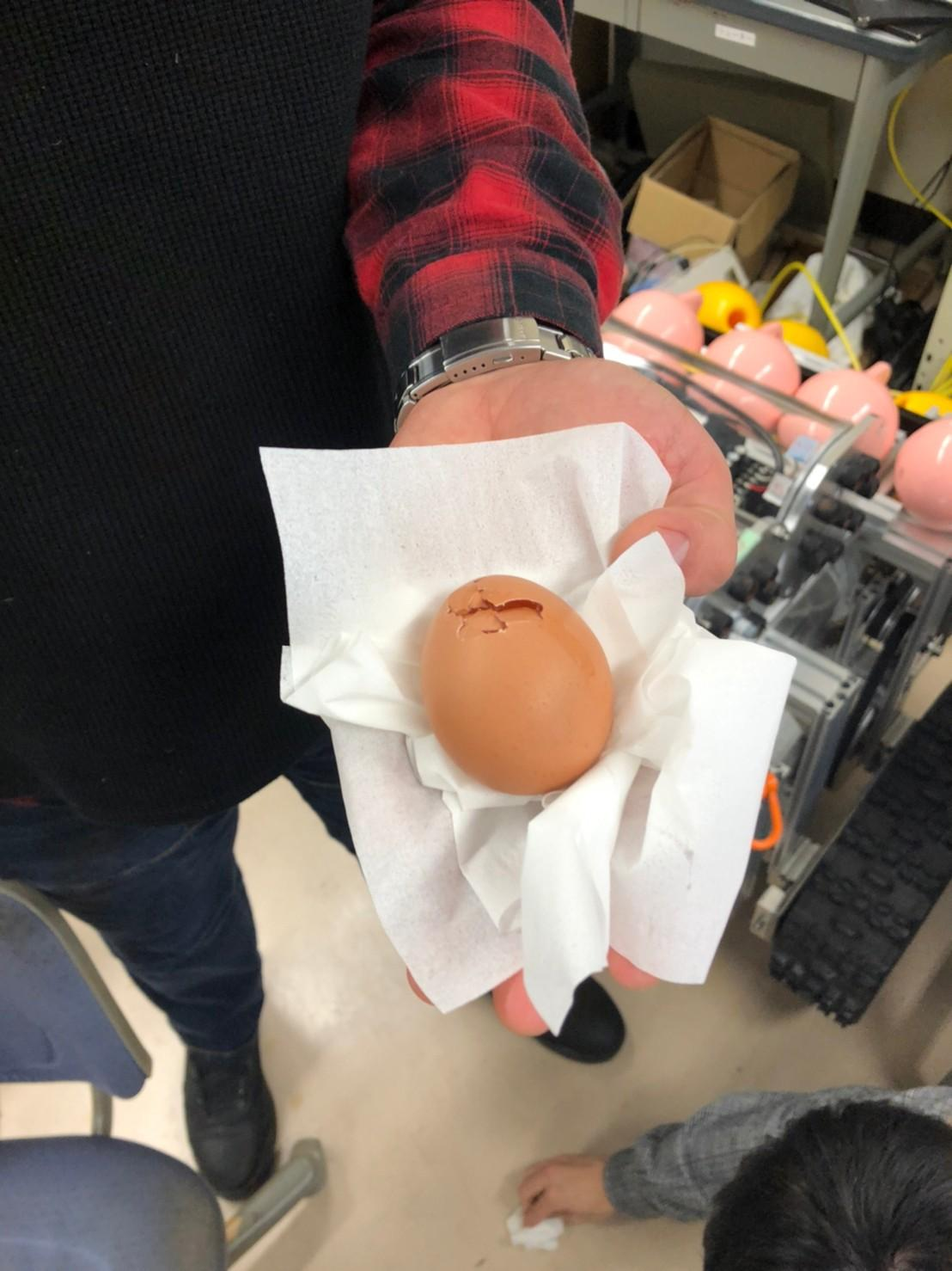egg: (420, 568, 622, 795)
